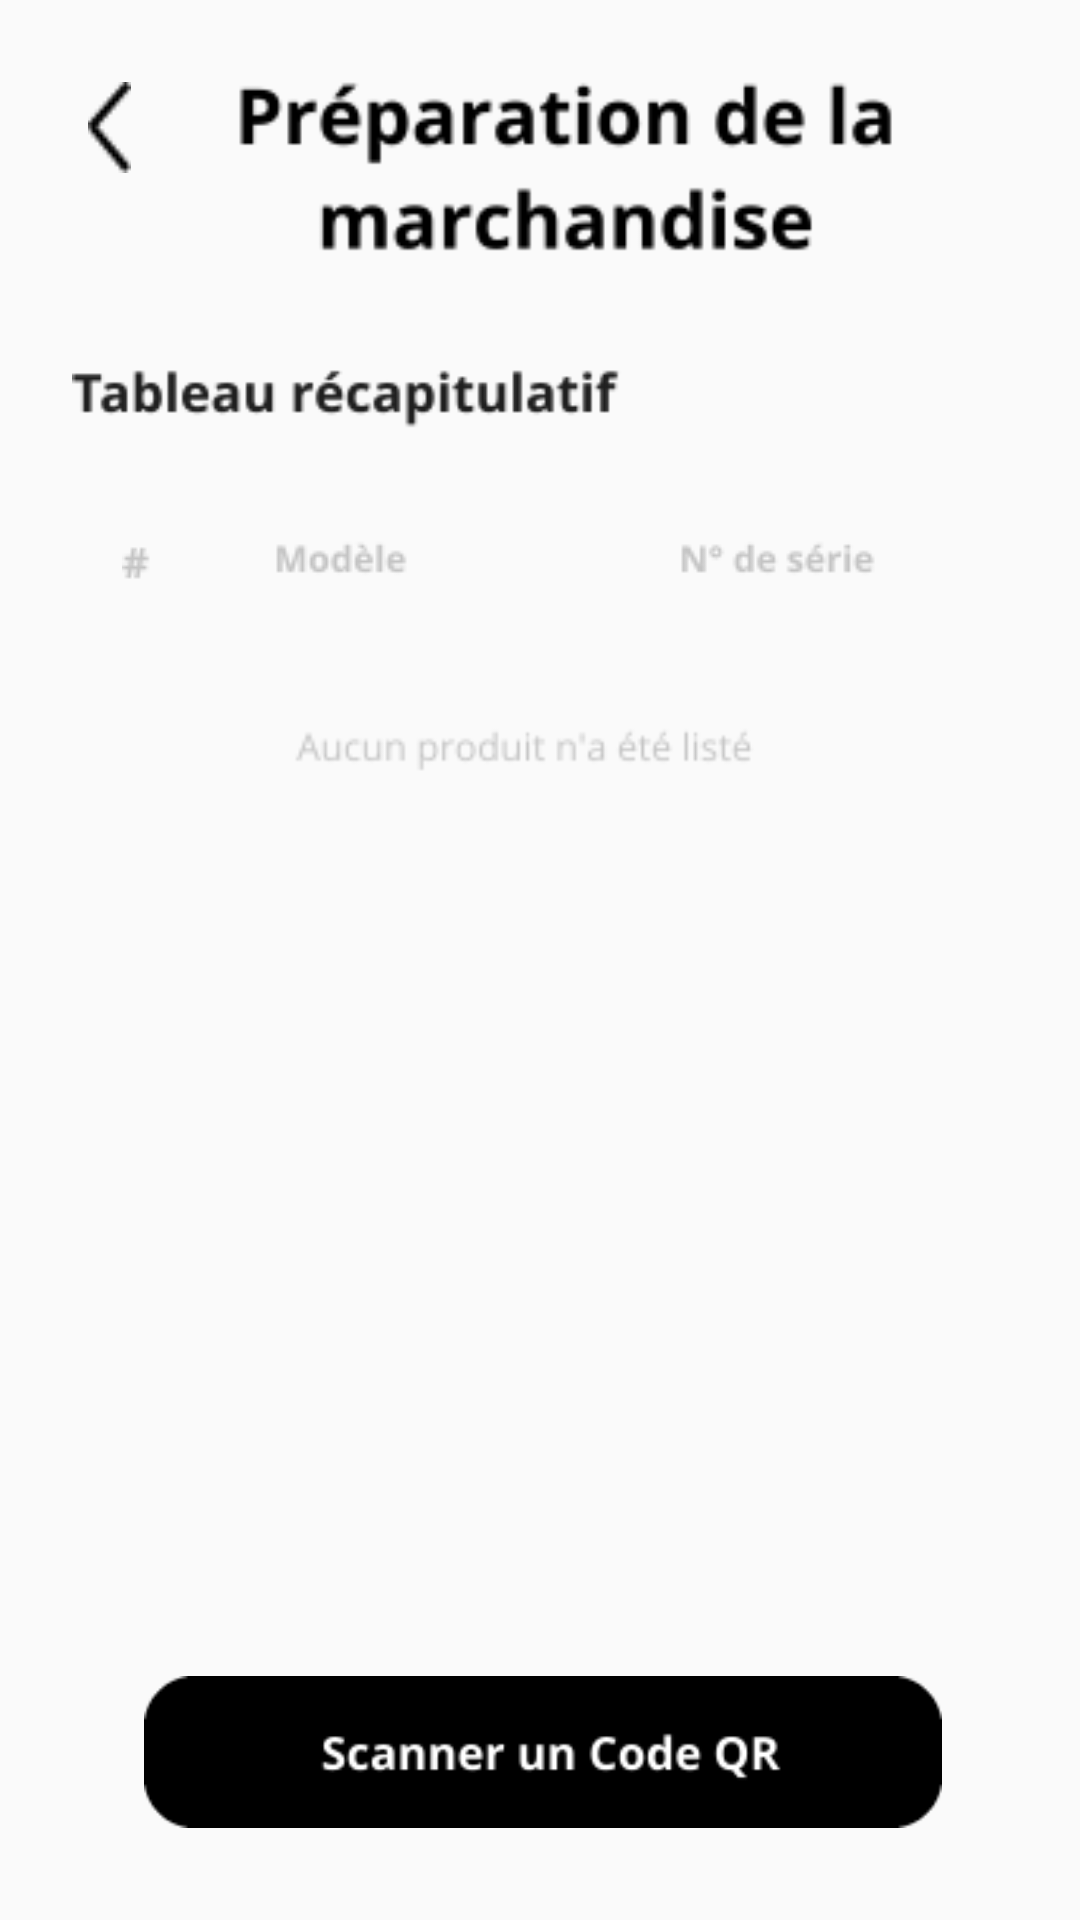

Icon bounding boxes for this 1080*1920 phone screenshot, format (x1, y1, x2, y2):
back: (88, 82, 131, 173)
